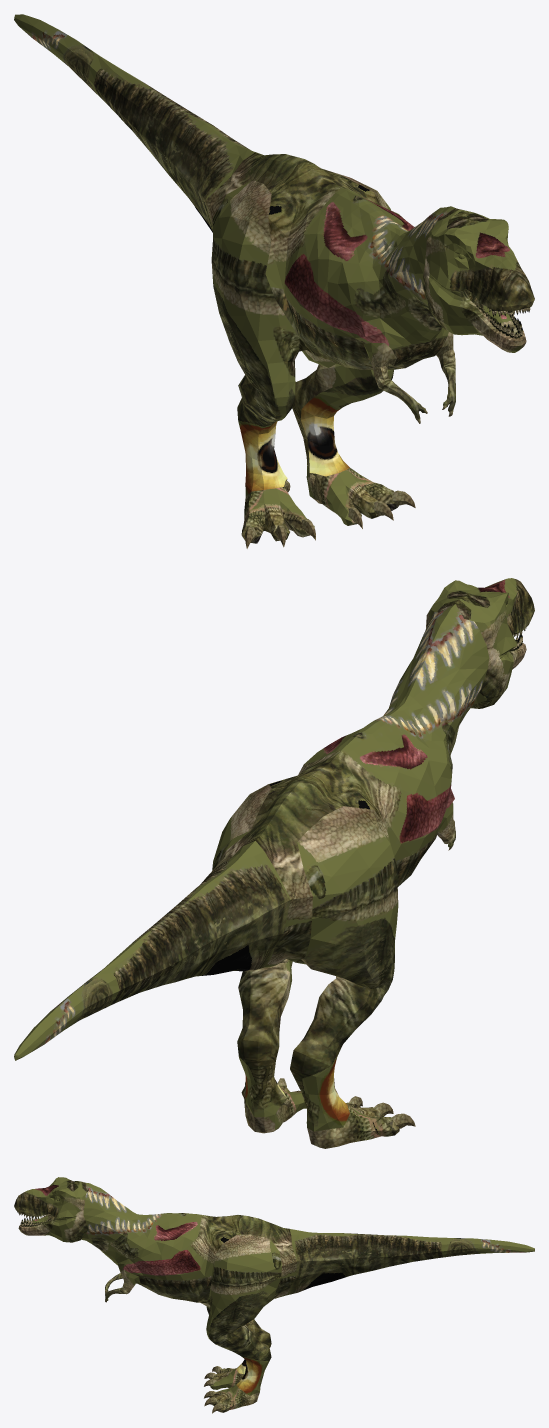
The model's file is trex.obj.
3 renders of one model, top to bottom at view 1: azimuth 30°, elevation 25°; view 2: azimuth 150°, elevation 25°; view 3: azimuth 270°, elevation 25°, orthographic. The views are drawn at different scales.
Visible parts, largest first — view 1: T_Rex; view 2: T_Rex; view 3: T_Rex.
Boxes of the visible parts, x1,y1,x2,y2 form: T_Rex: [14, 14, 534, 548]; T_Rex: [14, 578, 534, 1148]; T_Rex: [14, 1177, 534, 1413].
Size of the model in its own units: 177 by 419 by 929.
1 material, 1 textured.
